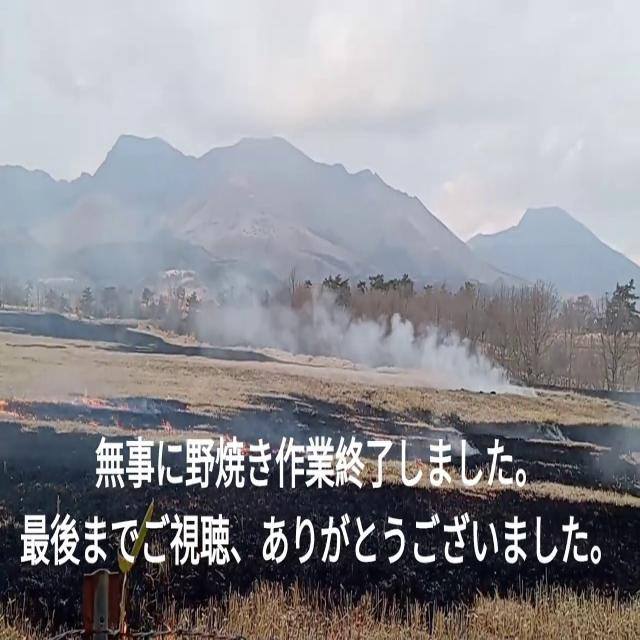Smoke: (210, 276, 496, 392)
